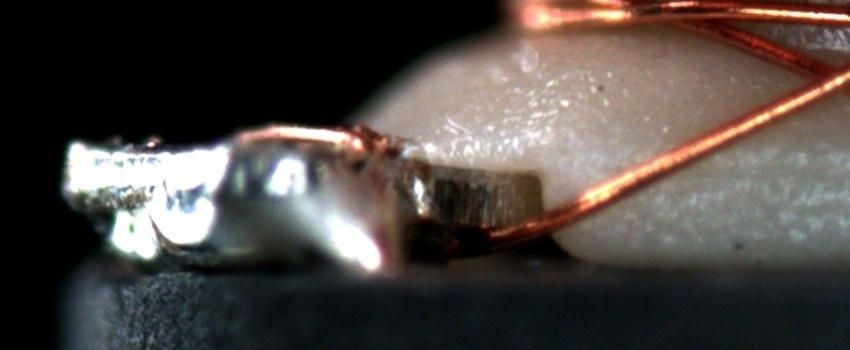CL: (784, 46, 846, 105)
DL: (627, 140, 849, 204)
TE: (240, 123, 405, 152)
